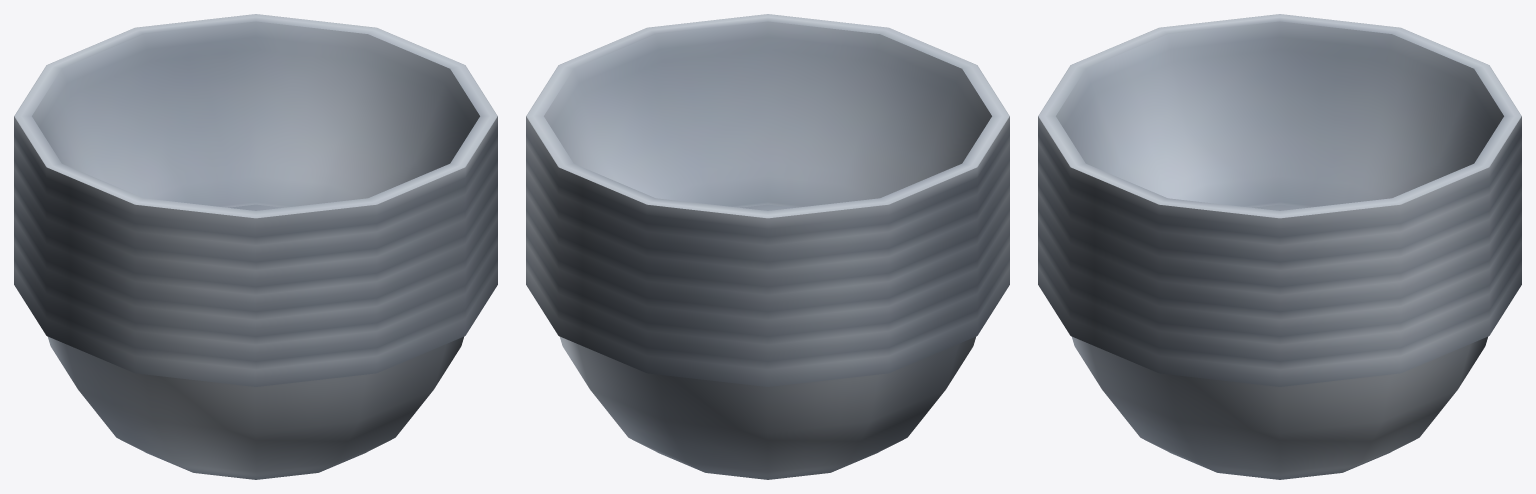
Rendered from jsf_Bowl_01_set.fbx.
3 renders of one model, left to right at view 1: azimuth 30°, elevation 25°; view 2: azimuth 150°, elevation 25°; view 3: azimuth 270°, elevation 25°, orthographic.
Parts seen in each view (by area): view 1: jsf_Bowl_01_set; view 2: jsf_Bowl_01_set; view 3: jsf_Bowl_01_set.
Part boxes in pixels (box(x1,y1,x2,y2)): jsf_Bowl_01_set: box(14, 14, 497, 479); jsf_Bowl_01_set: box(526, 14, 1009, 479); jsf_Bowl_01_set: box(1038, 14, 1521, 479).
Size of the model in its own units: 13 by 9.22 by 13.
